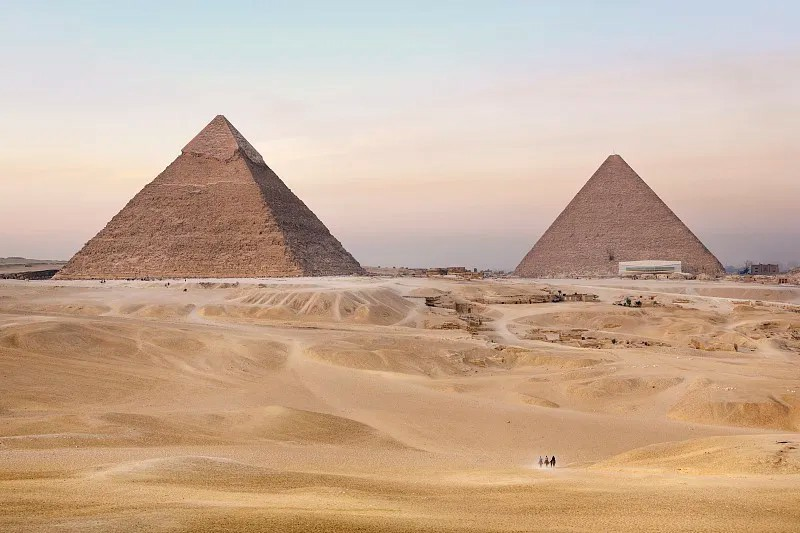Pyramid: (50, 114, 366, 280), (514, 152, 727, 278)
